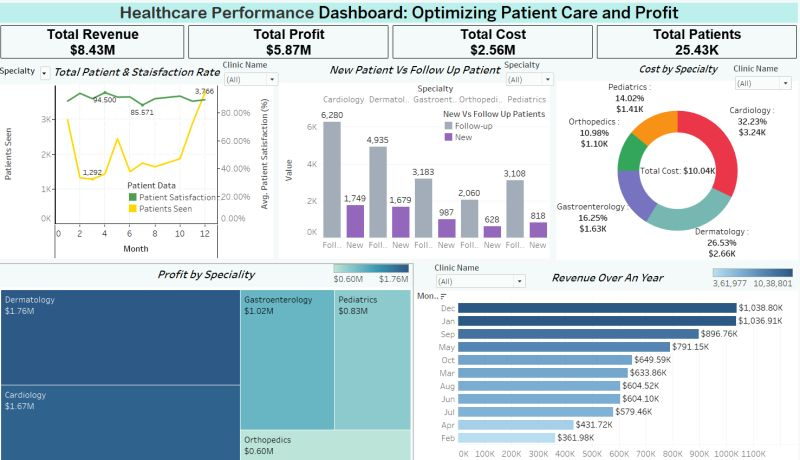

What the dashboard file says about the page in this screenshot:
{"tool":"tableau","page":{"name":"Dashboard 2","canvas":[1500,900],"ordinal":0},"visuals":[{"type":"title","box":[9,9,1482,45]},{"type":"worksheet","title":"BAN - Total Revenue","mark":"Automatic","box":[10.4,51,347,69]},{"type":"worksheet","title":"BAN - Total Profit","mark":"Automatic","box":[357.4,51,377,69]},{"type":"worksheet","title":"BAN - Total Cost","mark":"Automatic","box":[734.4,51,377,69]},{"type":"worksheet","title":"BAN - Total Patients","mark":"Text","box":[1111.4,51,377,69]},{"type":"filter","title":"Total Patient & Satisfaction Rate","param":"[federated.1ys4luc15pfwe0104vwvw117xpmk].[none:Office Name:nk]","box":[424,117,106,62]},{"type":"filter","title":"New Vs Follow up Patient","param":"[federated.1ys4luc15pfwe0104vwvw117xpmk (copy)].[none:Specialty:nk]","box":[944,117,95,53]},{"type":"worksheet","title":"New Vs Follow up Patient","mark":"Automatic","cols":["Specialty"],"box":[528,118,500,368]},{"type":"worksheet","title":"Cost By Specialty","mark":"Pie","rows":["Calculation_101049562059186176","Calculation_101049562059186176"],"box":[1040,118,448,371]},{"type":"worksheet","title":"Total Patient & Satisfaction Rate","mark":"Automatic","rows":["Patients Seen","Patient Satisfaction (%)"],"cols":["Month"],"box":[10,122,509,364]},{"type":"filter","title":"Cost By Specialty","param":"[federated.1ys4luc15pfwe0104vwvw117xpmk].[none:Office Name:nk]","box":[1367,124,111,55]},{"type":"filter","title":"Total Patient & Satisfaction Rate","param":"[federated.1ys4luc15pfwe0104vwvw117xpmk].[none:Specialty:nk]","box":[12,128,97,41]},{"type":"legend","title":"New Vs Follow up Patient","param":"[federated.1ys4luc15pfwe0104vwvw117xpmk (copy)].[:Measure Names]","box":[831,208,202,71]},{"type":"legend","title":"Total Patient & Satisfaction Rate","param":"[federated.1ys4luc15pfwe0104vwvw117xpmk].[:Measure Names]","box":[248,340,181,75]},{"type":"legend","title":"Profit by Speciality","param":"[federated.1ys4luc15pfwe0104vwvw117xpmk (copy 4)].[usr:Calculation_3460031606073","box":[625.4,492,146.5,43]},{"type":"filter","title":"Revenue Over an Year","param":"[federated.1ys4luc15pfwe0104vwvw117xpmk (copy 3)].[none:Office Name:nk]","box":[815,492,172,49]},{"type":"worksheet","title":"Profit by Speciality","mark":"Automatic","box":[10.4,496,765,395]},{"type":"legend","title":"Revenue Over an Year","param":"[federated.1ys4luc15pfwe0104vwvw117xpmk (copy 3)].[sum:Revenue Generated ($):qk]","box":[1324.6,500,155.8,49]},{"type":"worksheet","title":"Revenue Over an Year","mark":"Automatic","rows":["Month"],"cols":["Revenue Generated ($)"],"box":[777.7,502,710.8,390]}]}

Visuals, with their boxes on the page's 1500x900 design canvas (x1, y1, x2, y2). These are canvas units, not pixel positions in the 800x460 screenshot, which may show the page scaled, cropped or inside an application window:
title: bbox=[9, 9, 1491, 54]
"BAN - Total Revenue" worksheet: bbox=[10, 51, 357, 120]
"BAN - Total Profit" worksheet: bbox=[357, 51, 734, 120]
"BAN - Total Cost" worksheet: bbox=[734, 51, 1111, 120]
"BAN - Total Patients" worksheet (Text marks): bbox=[1111, 51, 1488, 120]
"Total Patient & Satisfaction Rate" filter: bbox=[424, 117, 530, 179]
"New Vs Follow up Patient" filter: bbox=[944, 117, 1039, 170]
"New Vs Follow up Patient" worksheet: bbox=[528, 118, 1028, 486]
"Cost By Specialty" worksheet (Pie marks): bbox=[1040, 118, 1488, 489]
"Total Patient & Satisfaction Rate" worksheet: bbox=[10, 122, 519, 486]
"Cost By Specialty" filter: bbox=[1367, 124, 1478, 179]
"Total Patient & Satisfaction Rate" filter: bbox=[12, 128, 109, 169]
"New Vs Follow up Patient" legend: bbox=[831, 208, 1033, 279]
"Total Patient & Satisfaction Rate" legend: bbox=[248, 340, 429, 415]
"Profit by Speciality" legend: bbox=[625, 492, 772, 535]
"Revenue Over an Year" filter: bbox=[815, 492, 987, 541]
"Profit by Speciality" worksheet: bbox=[10, 496, 775, 891]
"Revenue Over an Year" legend: bbox=[1325, 500, 1480, 549]
"Revenue Over an Year" worksheet: bbox=[778, 502, 1488, 892]
